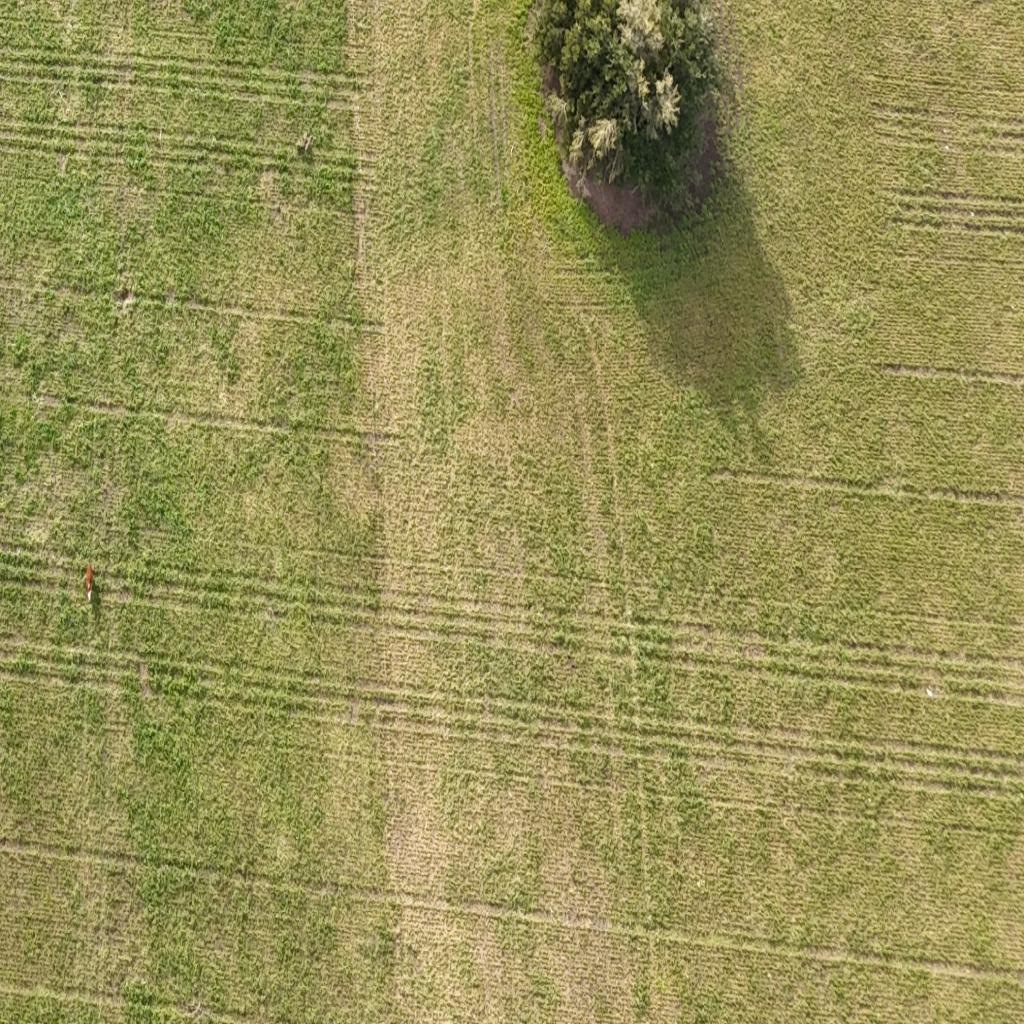cow: (80, 554, 100, 616)
